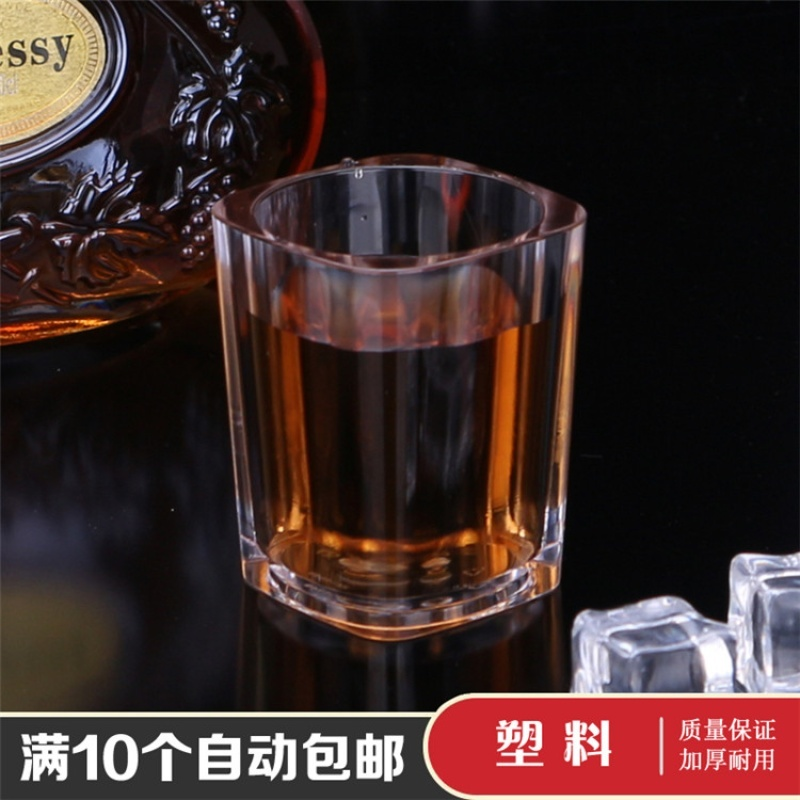whiskey: (221, 141, 616, 636)
